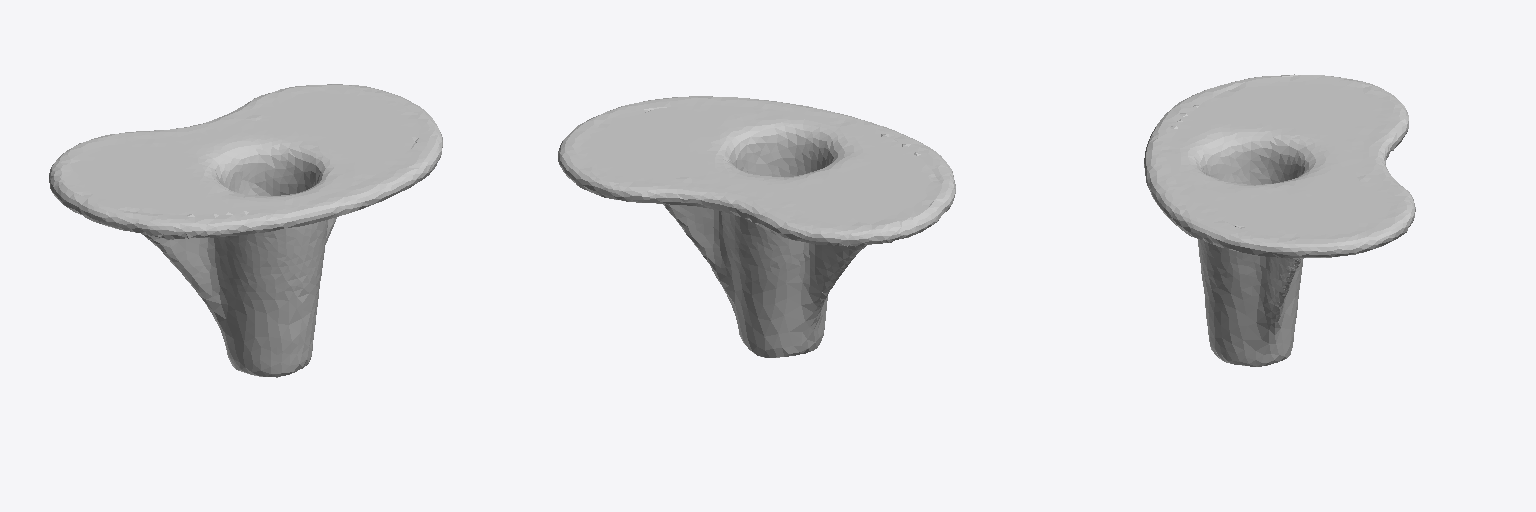
The model's file is ProtesiSottoNonSistemata.obj.
3 renders of one model, left to right at view 1: azimuth 30°, elevation 25°; view 2: azimuth 150°, elevation 25°; view 3: azimuth 270°, elevation 25°, orthographic.
Parts seen in each view (by area): view 1: Knee_Prosthesis_1.001_Knee_Prosthesis_1.003; view 2: Knee_Prosthesis_1.001_Knee_Prosthesis_1.003; view 3: Knee_Prosthesis_1.001_Knee_Prosthesis_1.003.
Part boxes in pixels (left/top/right/bottom): Knee_Prosthesis_1.001_Knee_Prosthesis_1.003: left=49, top=84, right=442, bottom=377; Knee_Prosthesis_1.001_Knee_Prosthesis_1.003: left=558, top=96, right=955, bottom=357; Knee_Prosthesis_1.001_Knee_Prosthesis_1.003: left=1144, top=74, right=1415, bottom=366.
Size of the model in its own units: 32.3 by 16.92 by 21.08.